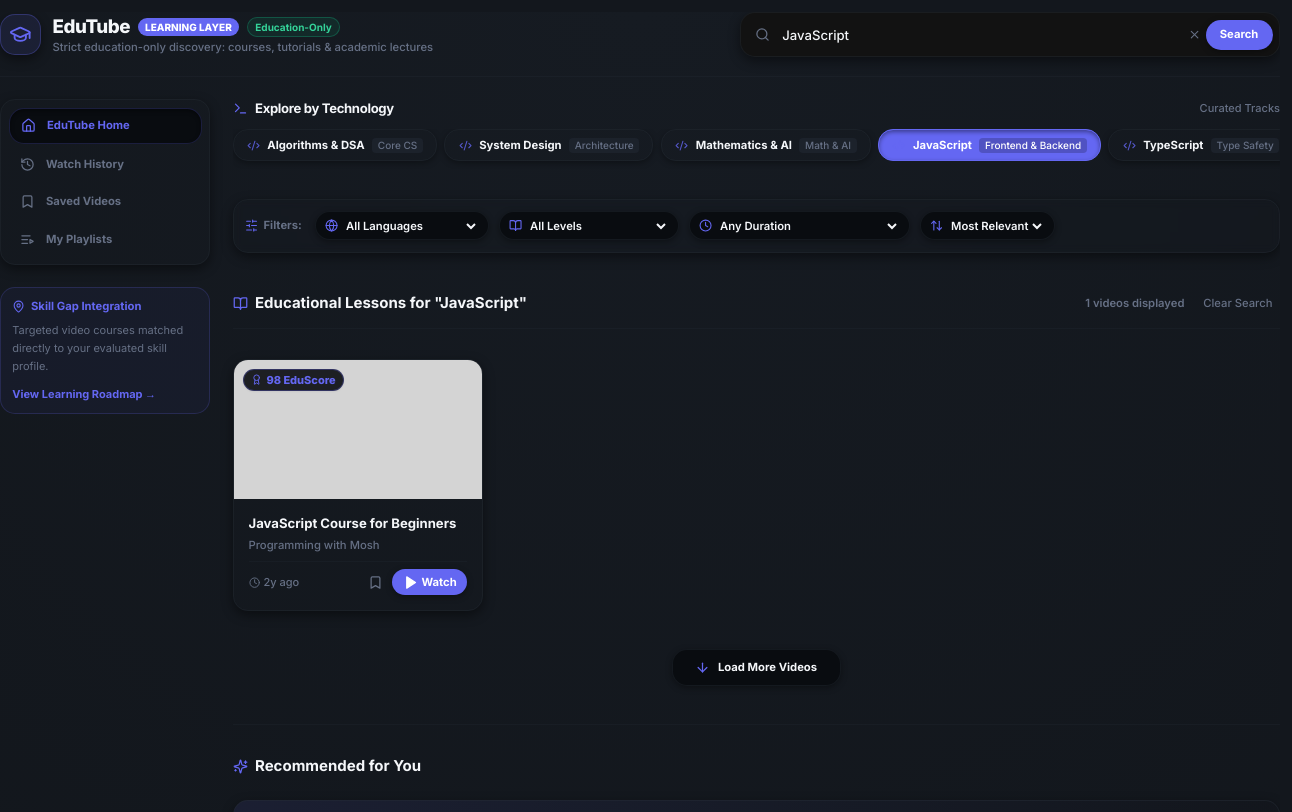
EduTube Frontend Module Suite (Separated Default & Search Modes) › Section 2: Explicit Search Mode & Section Ordering › 5. Pagination/Load More appends new items
The image size is (1292, 812).
Click the button "Load More Videos": (756, 668) [672, 649, 841, 686]
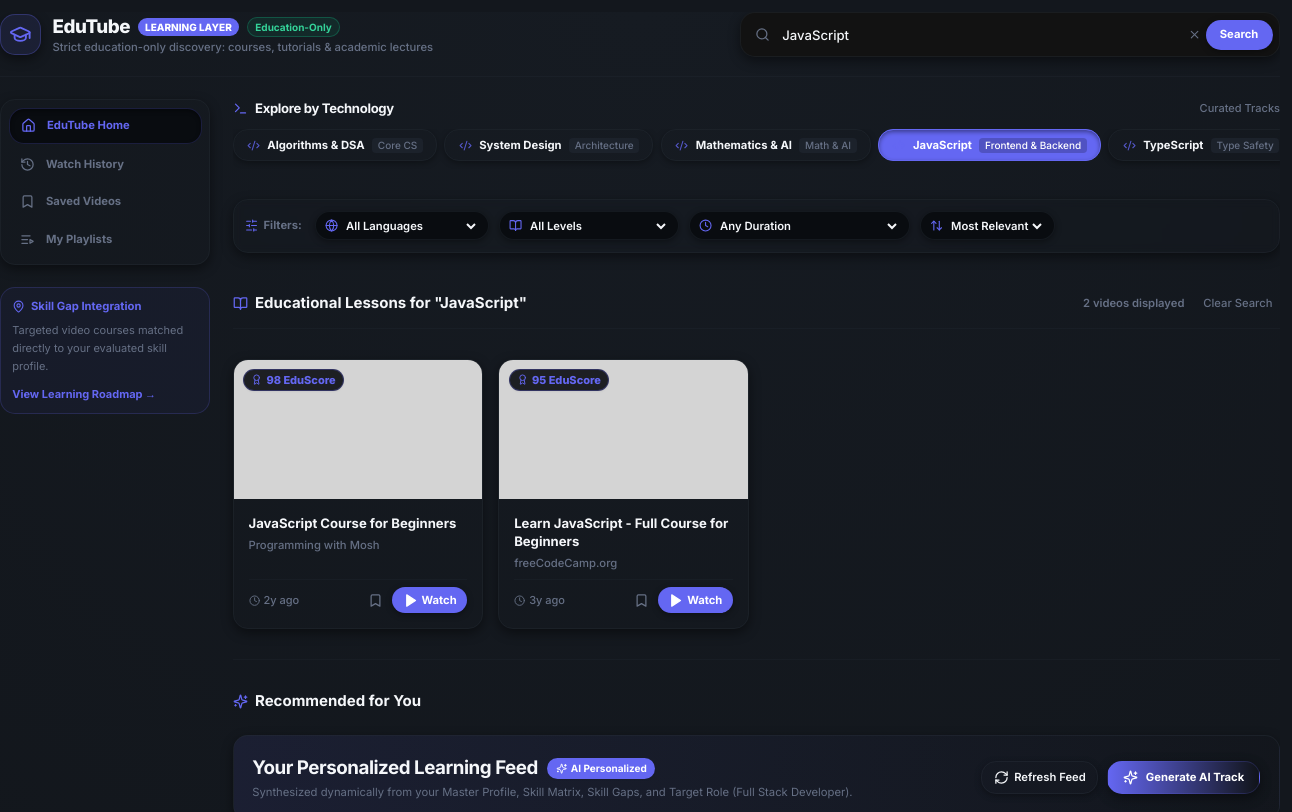
Result: the heading "Learn JavaScript - Full Course for Beginners" is shown at [514, 514, 733, 550]
